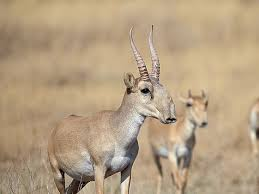saiga: (47, 25, 177, 191), (148, 89, 211, 188)
